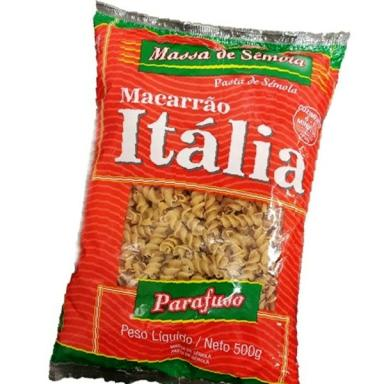pasta package: (50, 4, 348, 383)
